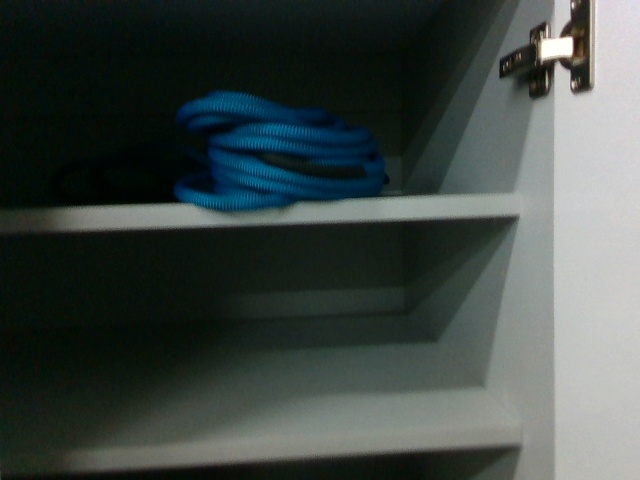rope: (172, 89, 383, 209)
